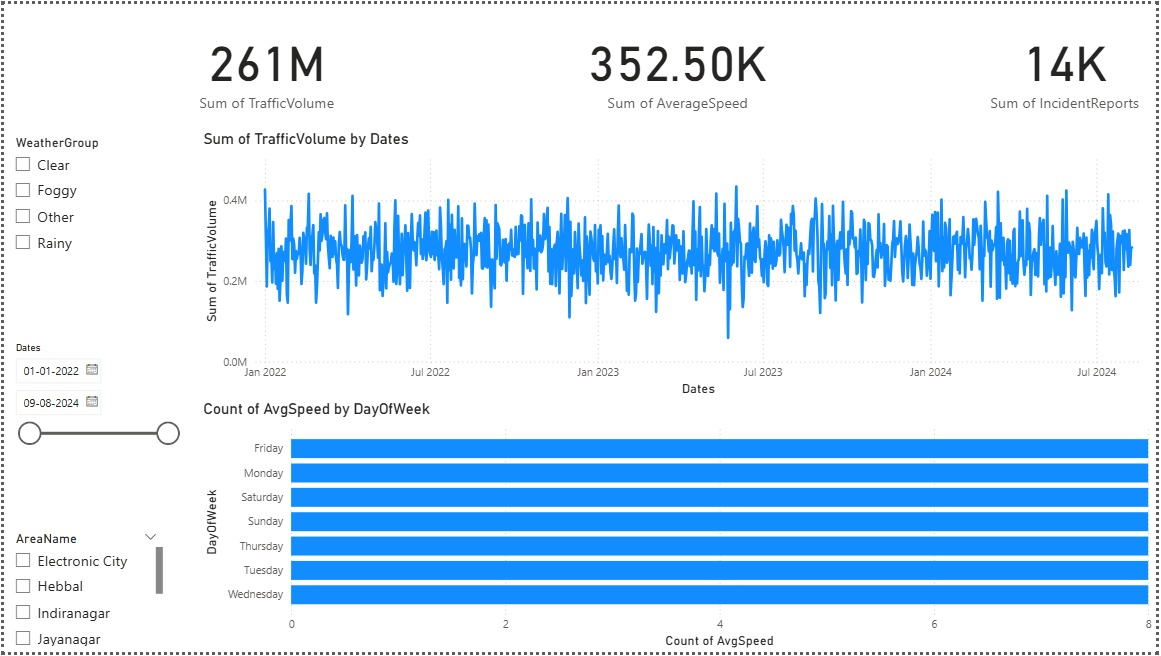

What the dashboard file says about the page in this screenshot:
{"tool":"powerbi","page":{"name":"Page 1","canvas":[1280,720],"ordinal":0},"visuals":[{"type":"card","fields":{"Values":["Sum(TrafficData.TrafficVolume)"]},"box":[203.3,0,176.7,140],"z":0},{"type":"card","fields":{"Values":["Sum(TrafficData.AverageSpeed)"]},"box":[640,0,216.7,140],"z":1},{"type":"card","fields":{"Values":["Sum(TrafficData.IncidentReports)"]},"box":[1076.7,0,203.3,140],"z":2},{"type":"lineChart","fields":{"Category":["TrafficData.Dates"],"Y":["Sum(TrafficData.TrafficVolume)"]},"box":[216.7,140,1063.3,300],"z":3},{"type":"clusteredBarChart","fields":{"Category":["TrafficData.DayOfWeek"],"Y":["CountNonNull(Traffic_AreaSummary.AvgSpeed)"]},"box":[216.7,440,1063.3,280],"z":4},{"type":"slicer","fields":{"Values":["TrafficData.Dates"]},"box":[0,370,203.3,140],"z":5},{"type":"slicer","fields":{"Values":["TrafficData.AreaName"]},"box":[0,580,181.7,138.3],"z":6},{"type":"slicer","fields":{"Values":["TrafficData.WeatherGroup"]},"box":[0,140,203.3,150],"z":7}]}

Visuals, with their boxes in screenshot pixels (x1, y1, x2, y2), scaled from the page's 1280x720 canvas onto the 1161x656 screenshot:
card - Sum(TrafficData.TrafficVolume): {"x1": 184, "y1": 0, "x2": 345, "y2": 128}
card - Sum(TrafficData.AverageSpeed): {"x1": 580, "y1": 0, "x2": 777, "y2": 128}
card - Sum(TrafficData.IncidentReports): {"x1": 977, "y1": 0, "x2": 1160, "y2": 128}
lineChart - TrafficData.Dates x Sum(TrafficData.TrafficVolume): {"x1": 197, "y1": 128, "x2": 1160, "y2": 401}
clusteredBarChart - TrafficData.DayOfWeek x CountNonNull(Traffic_AreaSummary.AvgSpeed): {"x1": 197, "y1": 401, "x2": 1160, "y2": 655}
slicer - TrafficData.Dates: {"x1": 0, "y1": 337, "x2": 184, "y2": 465}
slicer - TrafficData.AreaName: {"x1": 0, "y1": 528, "x2": 165, "y2": 654}
slicer - TrafficData.WeatherGroup: {"x1": 0, "y1": 128, "x2": 184, "y2": 264}
